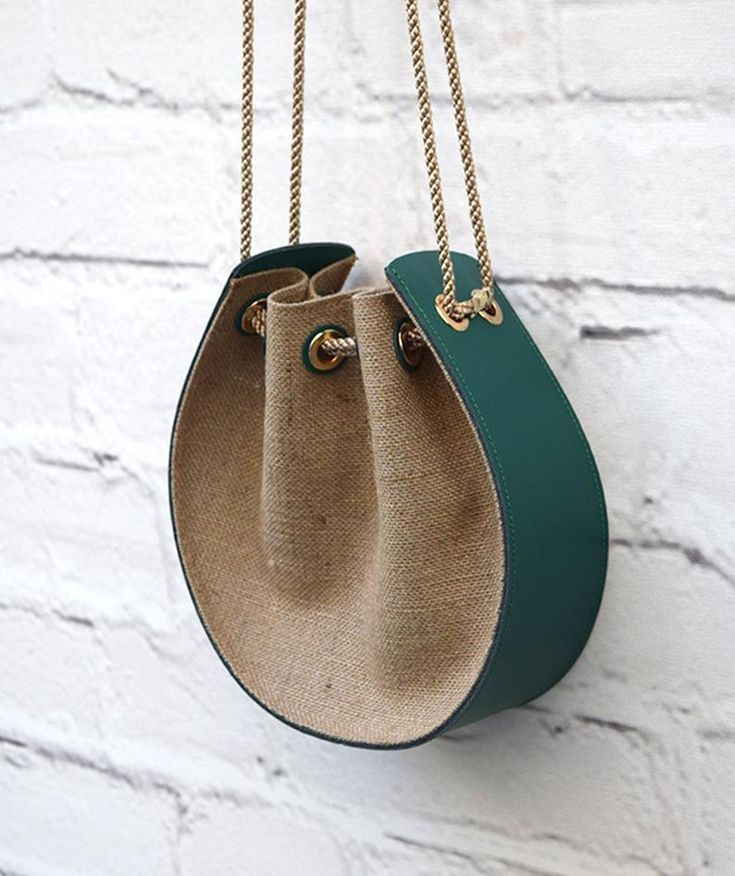cuero: (170, 242, 610, 750)
